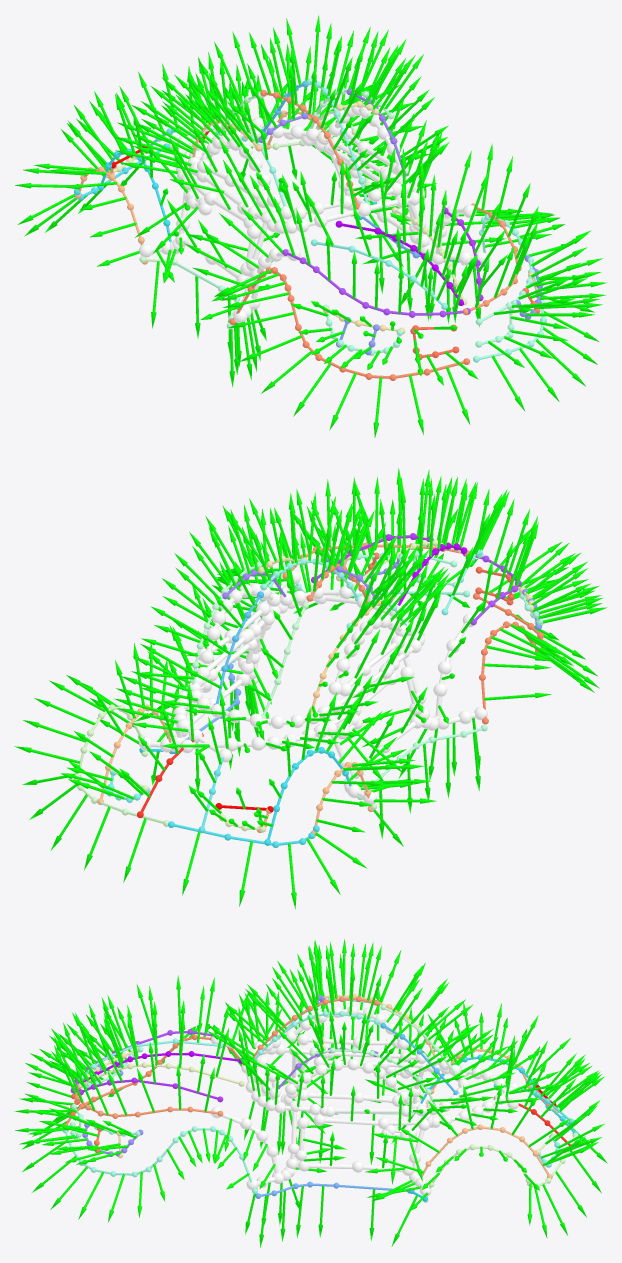
The model's file is author1_car.gltf.
3 renders of one model, top to bottom at view 1: azimuth 30°, elevation 25°; view 2: azimuth 150°, elevation 25°; view 3: azimuth 270°, elevation 25°, orthographic. The views are drawn at different scales.
Bounding box in the file's own units: 0.5823 × 0.4662 × 1.01.
